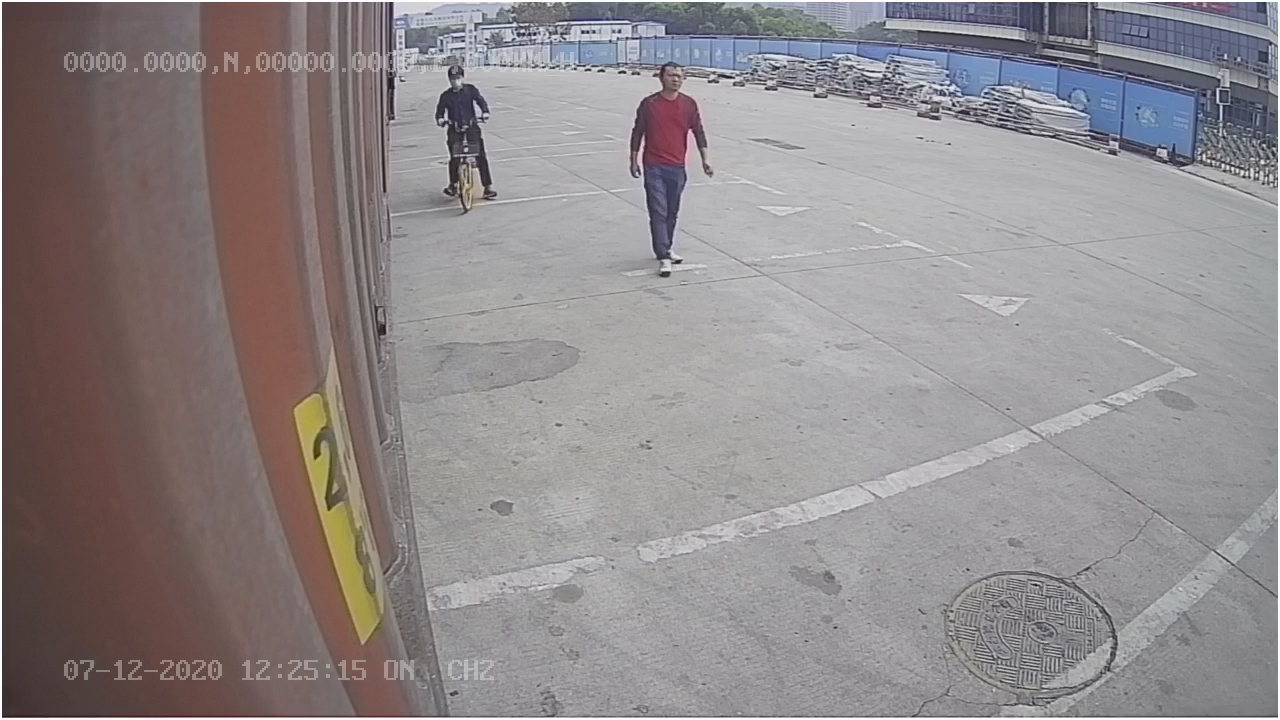person: (625, 58, 720, 284)
